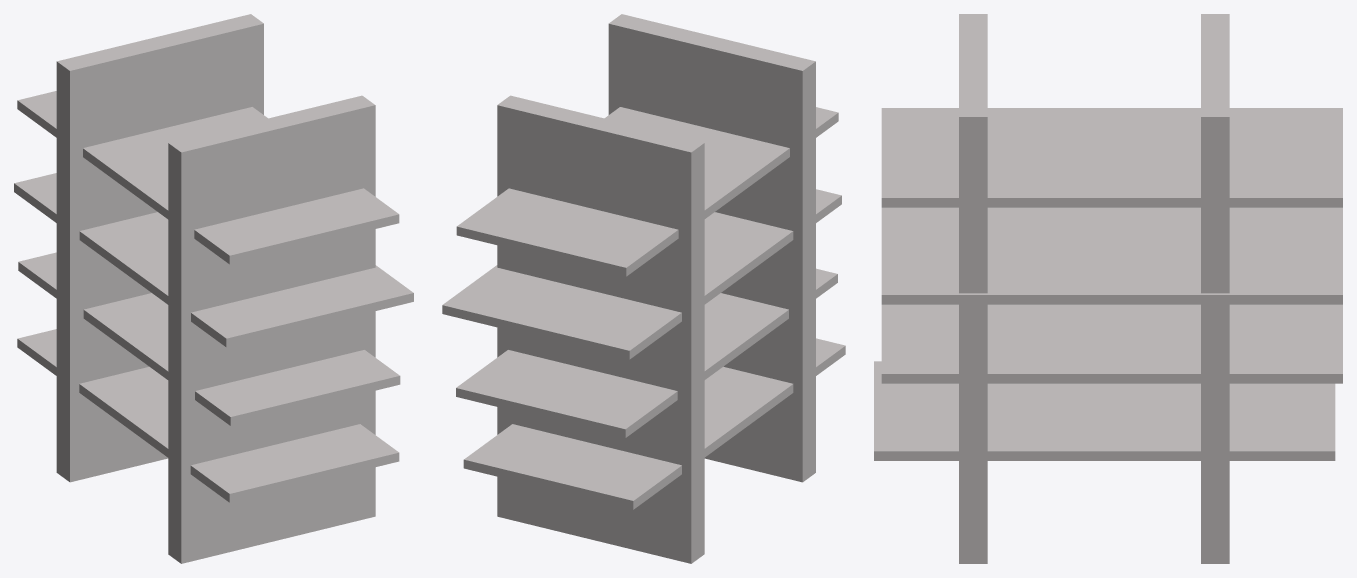
The model's file is HASIRA_YUKA.obj.
3 views of the same model, side by side, from view 1: azimuth 30°, elevation 25°; view 2: azimuth 150°, elevation 25°; view 3: azimuth 270°, elevation 25° (orthographic). The views are drawn at different scales.
Visible parts, largest first — view 1: 立方体.005; view 2: 立方体.005; view 3: 立方体.005.
Part boxes in pixels (box(x1,y1,x2,y2)): 立方体.005: box(14, 14, 413, 563); 立方体.005: box(442, 14, 845, 563); 立方体.005: box(874, 14, 1342, 563).
Size of the model in its own units: 1.93 by 3.84 by 3.66.
Materials: 2 (2 with a texture image).
